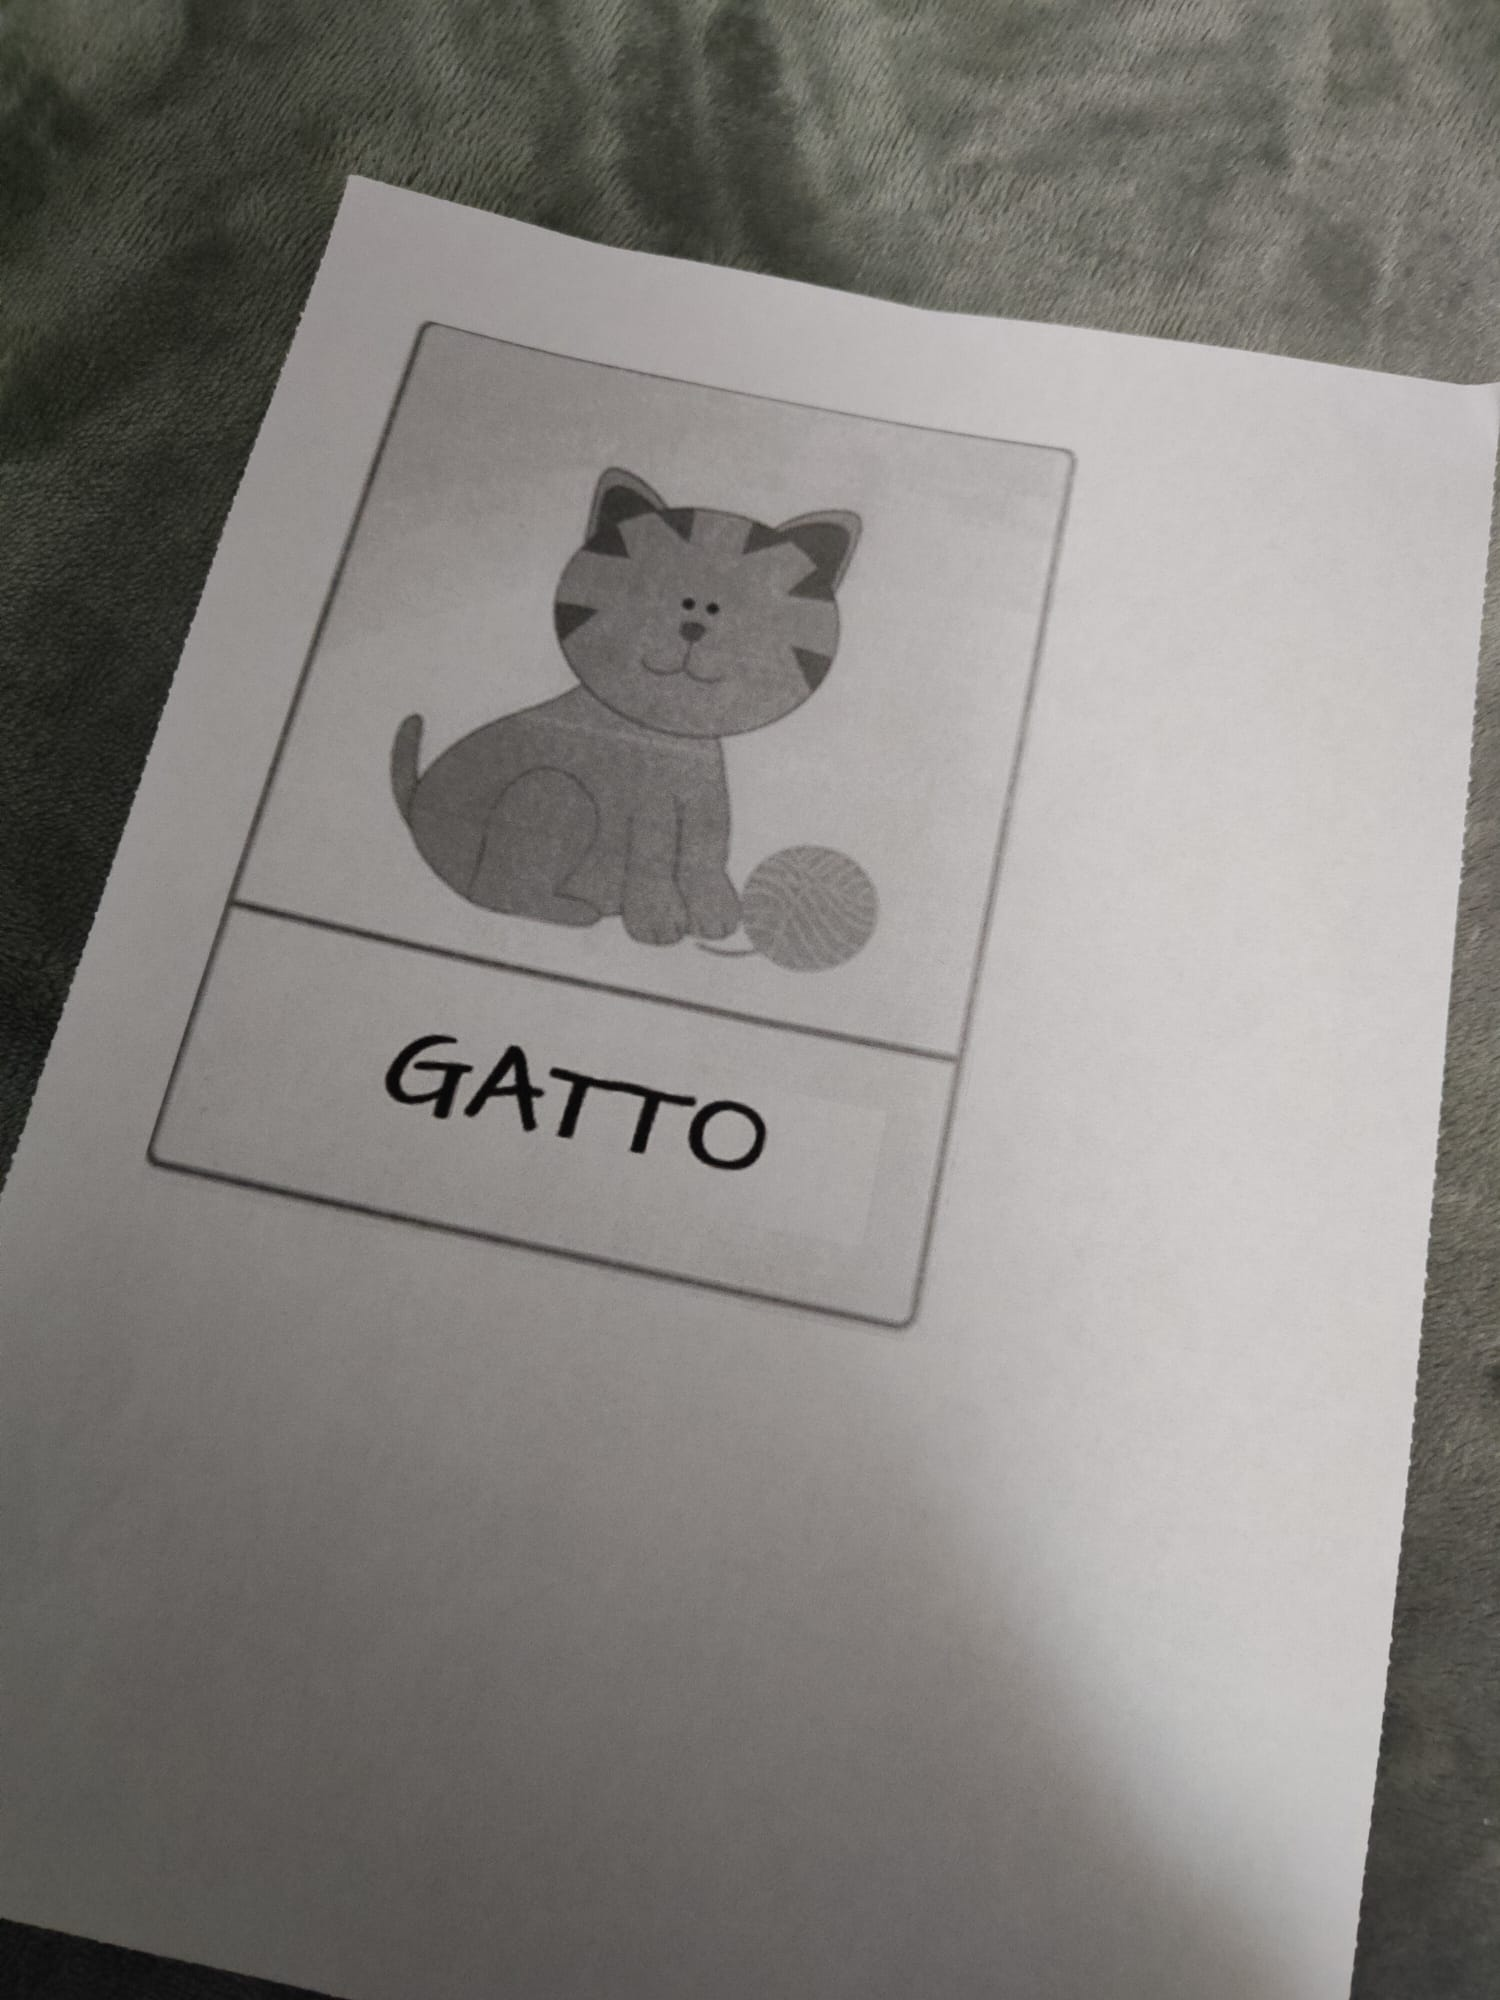gatto: (273, 308, 1000, 1324)
